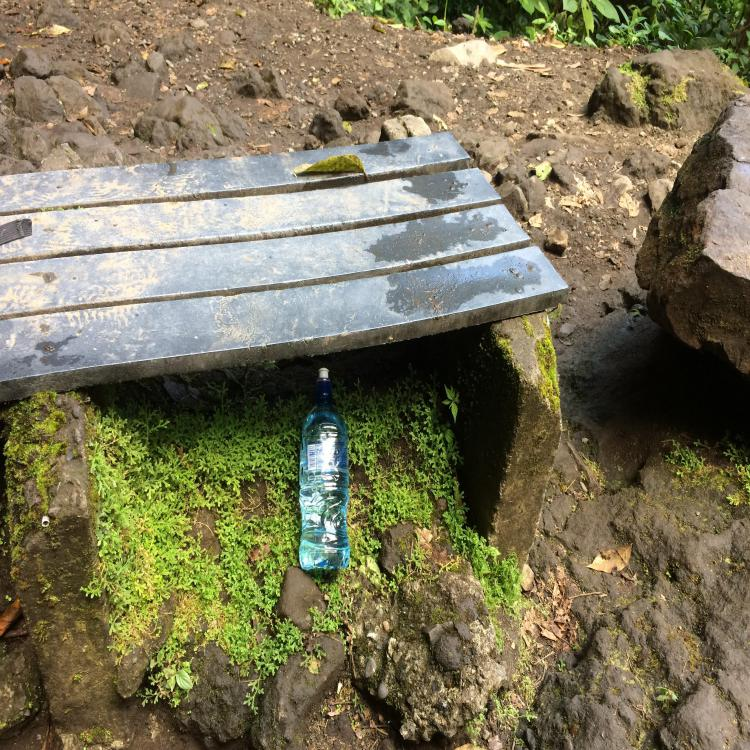Clear plastic bottle: (299, 368, 350, 570)
Plastic bottle cap: (315, 368, 332, 393)
